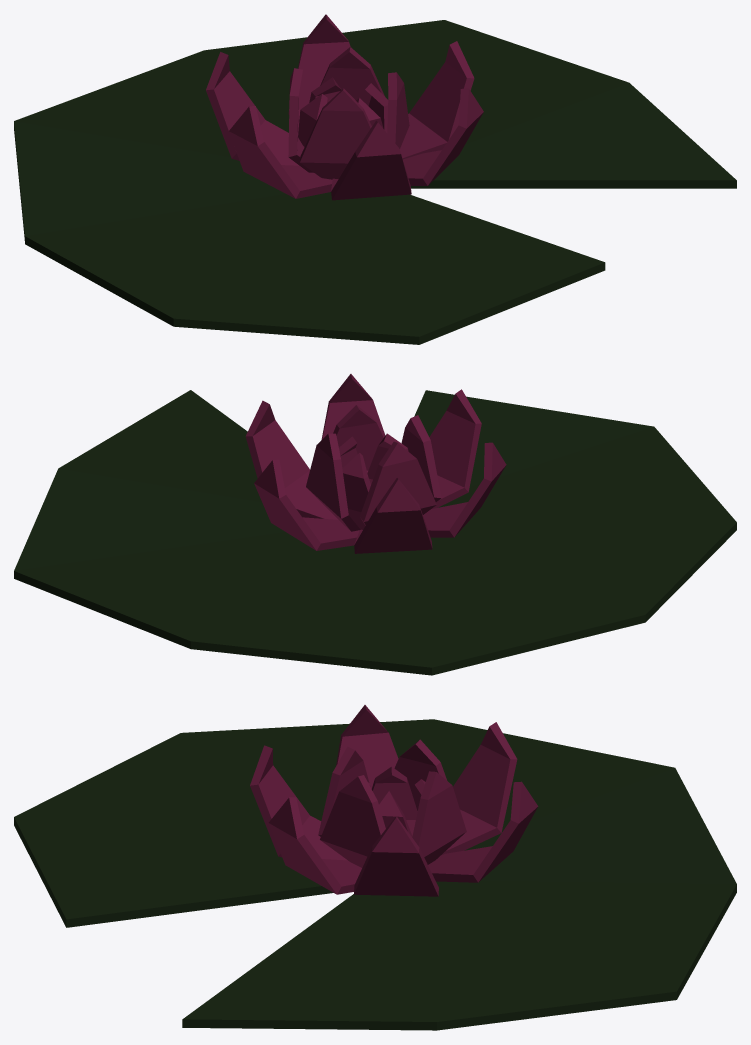
File: Lilypad.obj
3 renders of one model, top to bottom at view 1: azimuth 30°, elevation 25°; view 2: azimuth 150°, elevation 25°; view 3: azimuth 270°, elevation 25°, orthographic. The views are drawn at different scales.
Parts seen in each view (by area): view 1: Lilypad_Cylinder.016; view 2: Lilypad_Cylinder.016; view 3: Lilypad_Cylinder.016.
Boxes of the visible parts, x1=… form: Lilypad_Cylinder.016: x1=14, y1=14, x2=736, y2=344; Lilypad_Cylinder.016: x1=14, y1=374, x2=736, y2=675; Lilypad_Cylinder.016: x1=14, y1=705, x2=736, y2=1030.
Size of the model in its own units: 1.2 by 0.2209 by 1.19.
